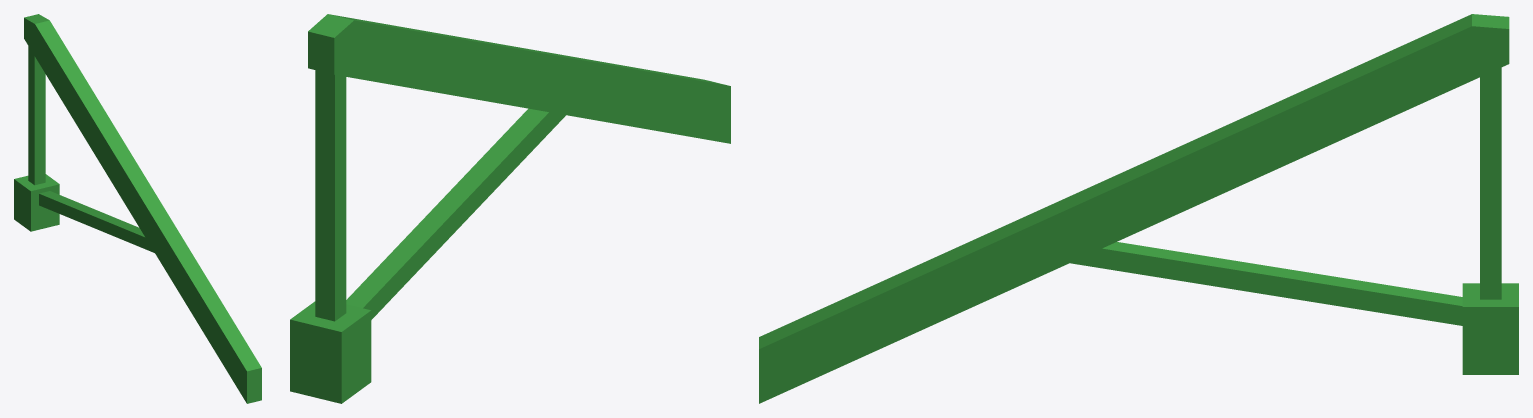
File: ladder side.FBX
3 renders of one model, left to right at view 1: azimuth 30°, elevation 25°; view 2: azimuth 150°, elevation 25°; view 3: azimuth 270°, elevation 25°, orthographic. The views are drawn at different scales.
Visible parts, largest first — view 1: Box035; view 2: Box035; view 3: Box035.
Boxes of the visible parts, x1,y1,x2,y2 form: Box035: (14, 14, 261, 403); Box035: (290, 14, 730, 403); Box035: (759, 14, 1518, 403).
Bounding box in the file's own units: 0.6 × 4.44 × 8.1.
